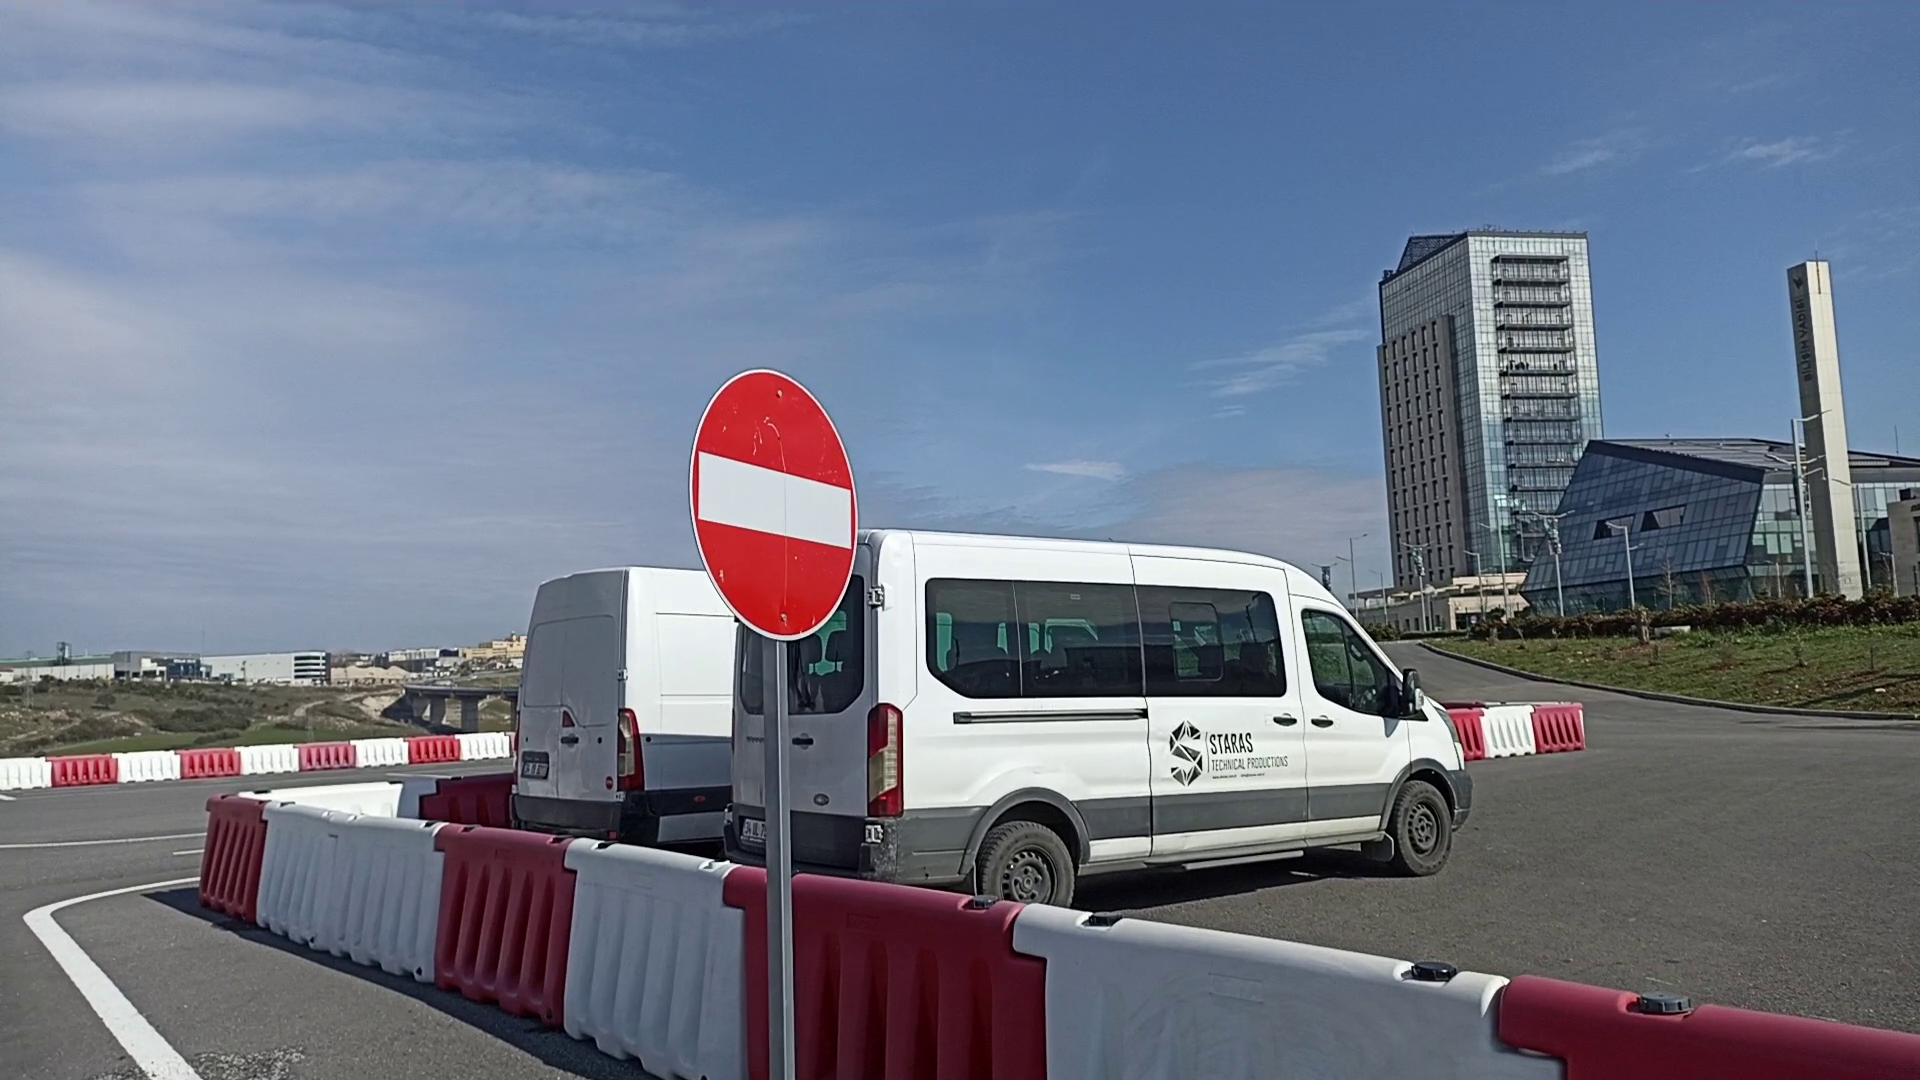noentryway: (684, 364, 868, 646)
